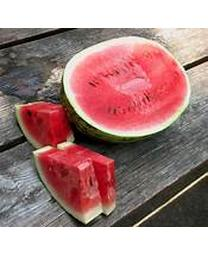watermelon: (62, 36, 192, 146), (13, 99, 118, 226)
